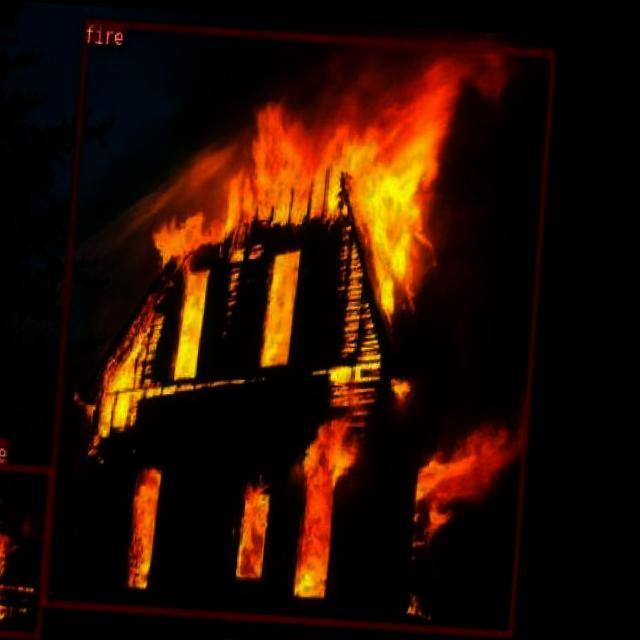Fire: (84, 6, 568, 640), (0, 472, 41, 640)
Smoke: (419, 30, 636, 425), (106, 6, 310, 318)
